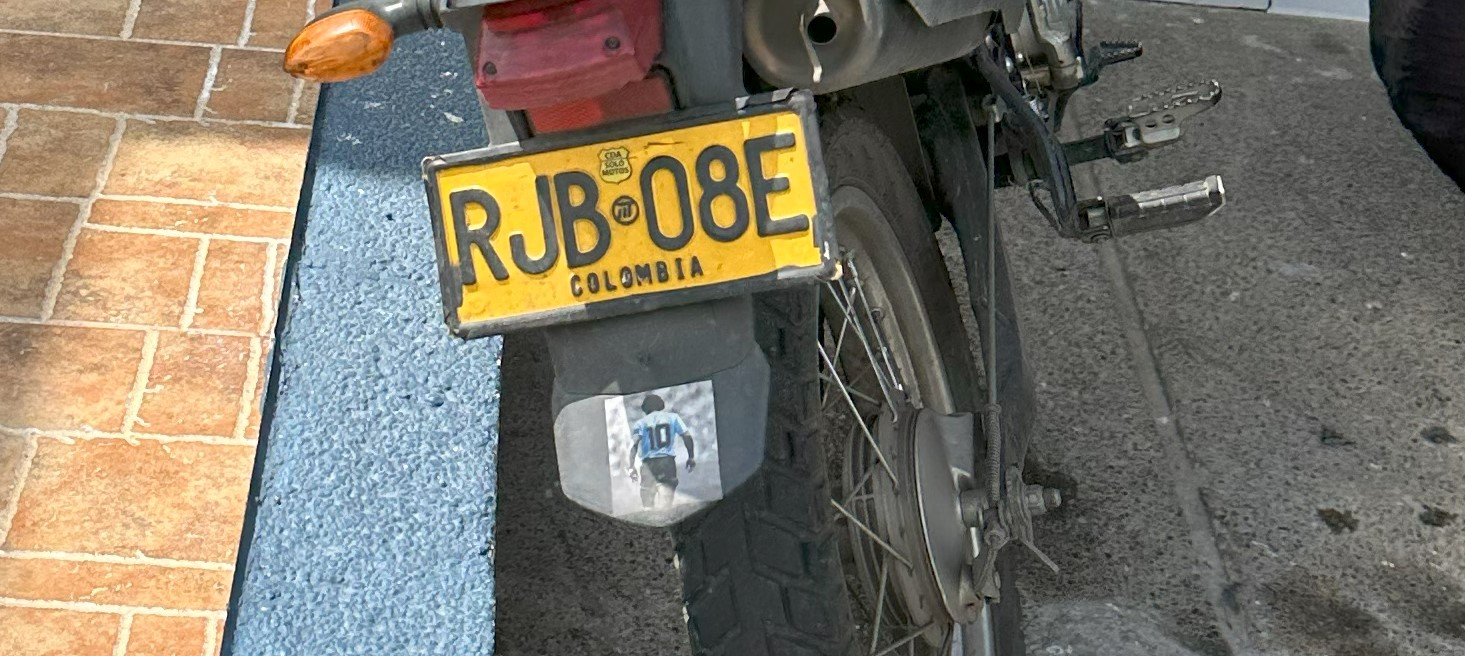number plate: (423, 90, 837, 336)
